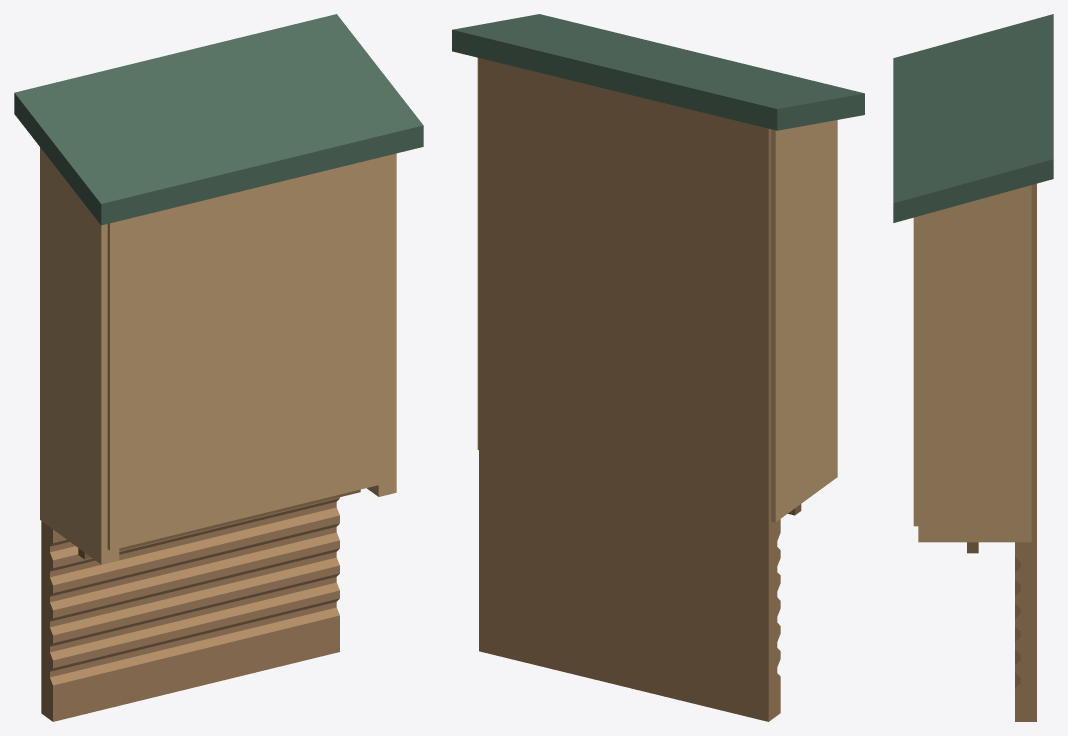
3 views of the same model, side by side, from view 1: azimuth 30°, elevation 25°; view 2: azimuth 150°, elevation 25°; view 3: azimuth 270°, elevation 25° (orthographic). The views are drawn at different scales.
Parts seen in each view (by area): view 1: WholeRaisedSolidFrontCover, WholeSingleSlopeProudWeatherHood, WholeExtendedGroovedLandingBackboard, WholeFullHeightClosedSideWall0, WholeFullHeightClosedSideWall1, WholeRecessedVerticalInnerDivider; view 2: WholeExtendedGroovedLandingBackboard, WholeFullHeightClosedSideWall0, WholeSingleSlopeProudWeatherHood, WholeFullHeightClosedSideWall1; view 3: WholeFullHeightClosedSideWall1, WholeSingleSlopeProudWeatherHood, WholeExtendedGroovedLandingBackboard, WholeRaisedSolidFrontCover.
Boxes of the visible parts, box(x1,y1,x2,y2) form: WholeRaisedSolidFrontCover: box(107, 154, 392, 550); WholeSingleSlopeProudWeatherHood: box(14, 14, 423, 225); WholeExtendedGroovedLandingBackboard: box(41, 497, 339, 721); WholeFullHeightClosedSideWall0: box(40, 147, 119, 564); WholeFullHeightClosedSideWall1: box(367, 153, 396, 496); WholeRecessedVerticalInnerDivider: box(78, 489, 360, 559); WholeExtendedGroovedLandingBackboard: box(479, 58, 780, 721); WholeFullHeightClosedSideWall0: box(771, 120, 837, 522); WholeSingleSlopeProudWeatherHood: box(452, 14, 864, 130); WholeFullHeightClosedSideWall1: box(477, 58, 478, 449); WholeFullHeightClosedSideWall1: box(918, 185, 1031, 542); WholeSingleSlopeProudWeatherHood: box(893, 14, 1053, 222); WholeExtendedGroovedLandingBackboard: box(1015, 183, 1036, 721); WholeRaisedSolidFrontCover: box(913, 216, 918, 526).
Bounding box in the file's own units: 0.472 × 0.865 × 0.22.
